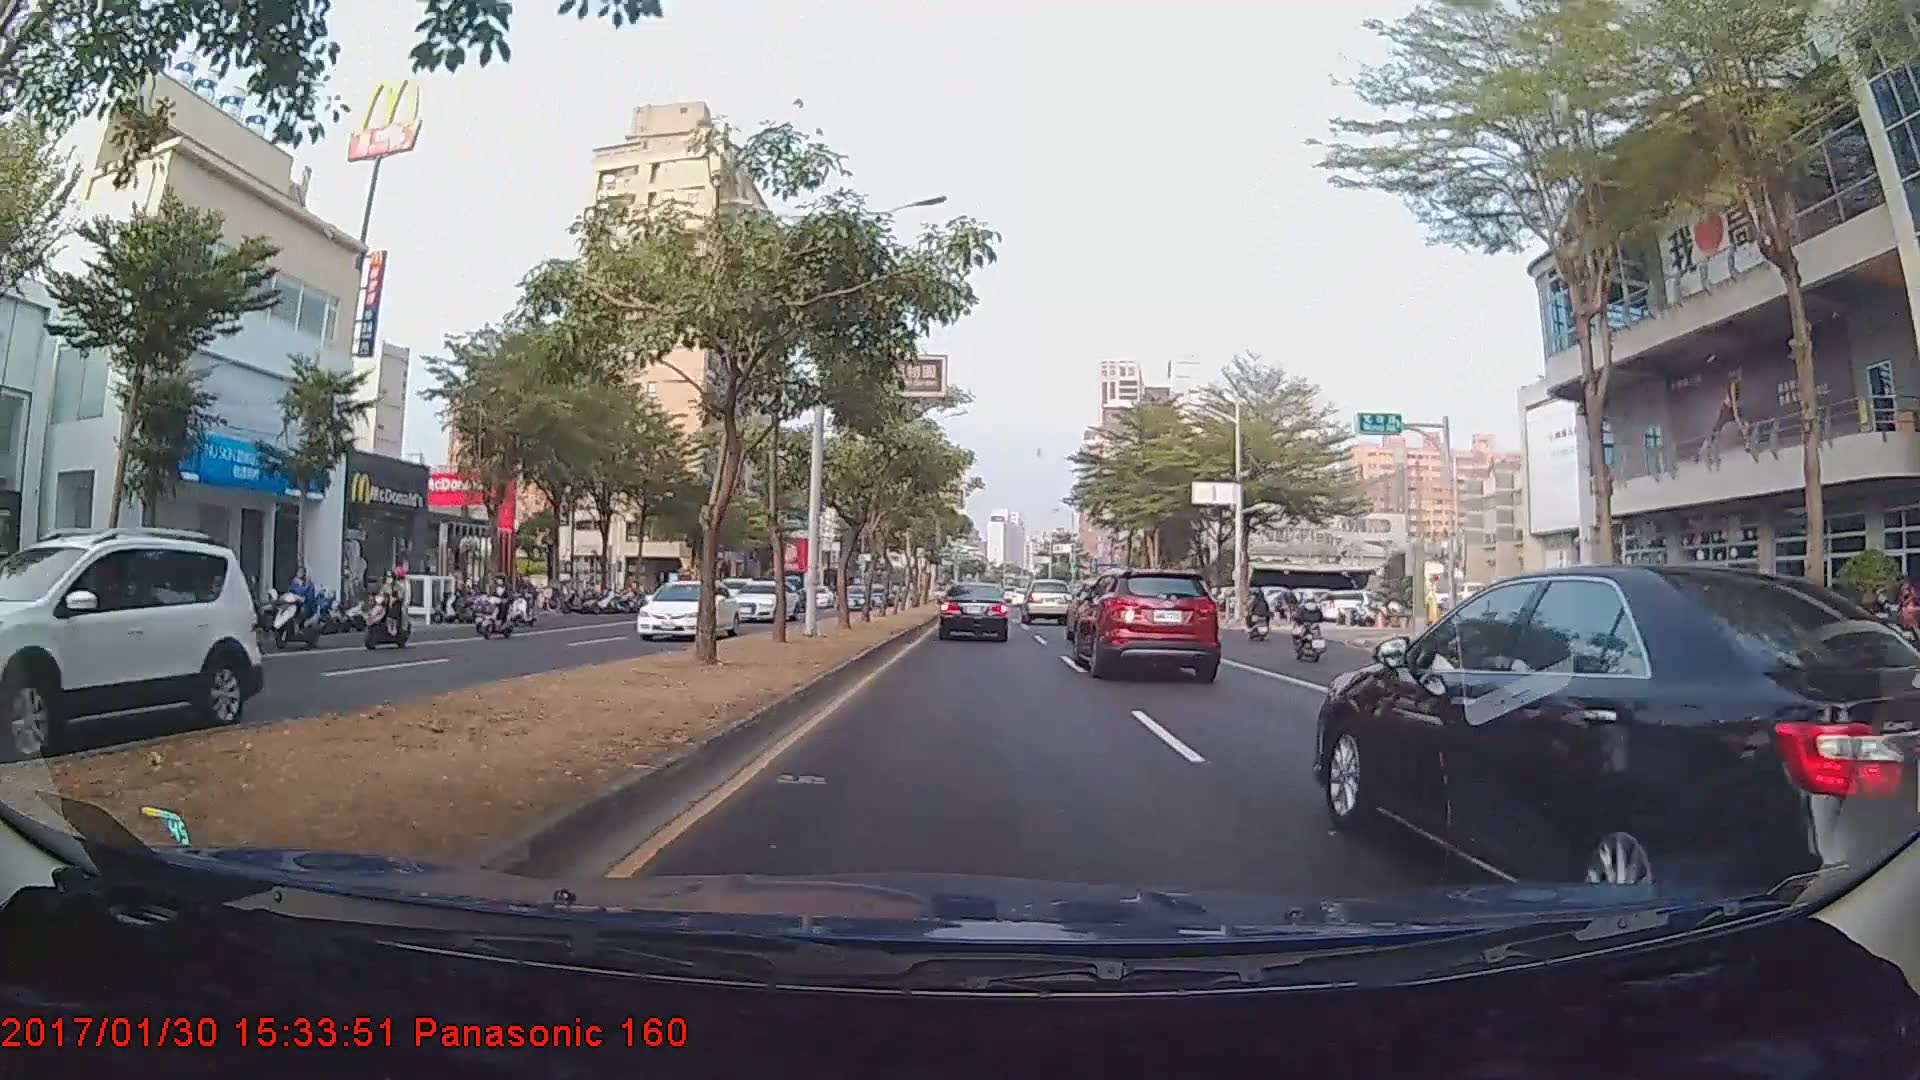rider: (354, 564, 417, 651), (1288, 586, 1331, 667)
vehicle: (1317, 560, 1918, 927), (0, 533, 263, 758), (1074, 569, 1218, 677), (632, 576, 740, 639), (936, 582, 1009, 642), (727, 573, 798, 624), (1019, 578, 1073, 624)
